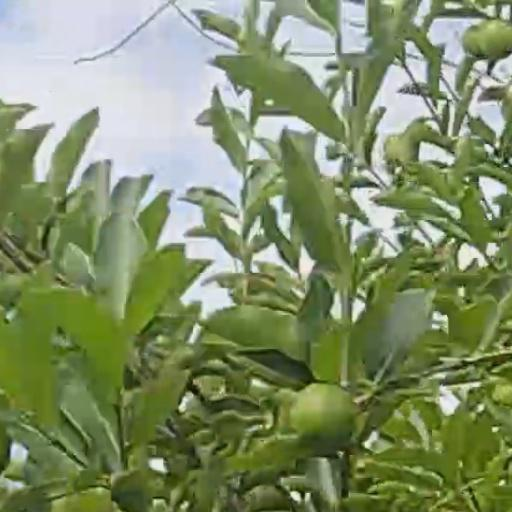acerola: (289, 382, 355, 449), (463, 20, 512, 60)
